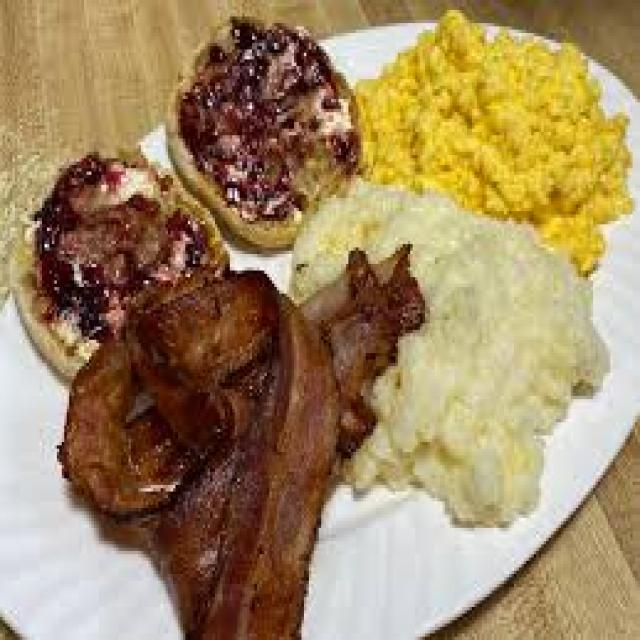Egg: (356, 10, 630, 274)
Pork: (59, 244, 423, 637)
Potato: (289, 181, 605, 521)
